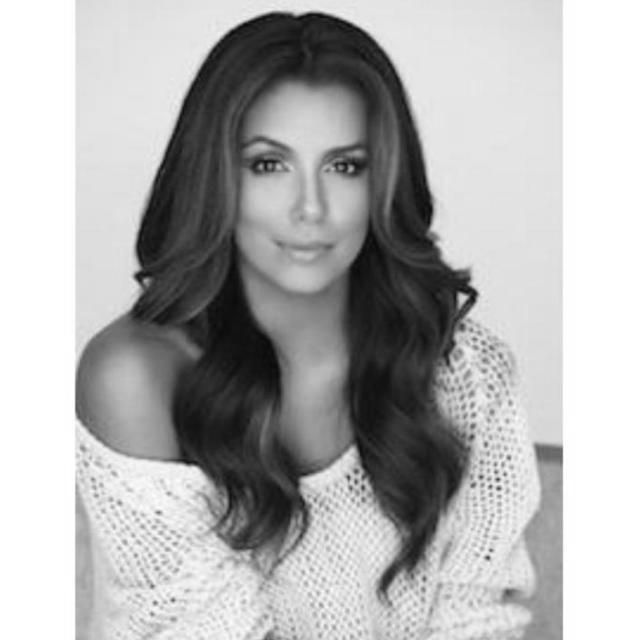real: (218, 59, 398, 306)
